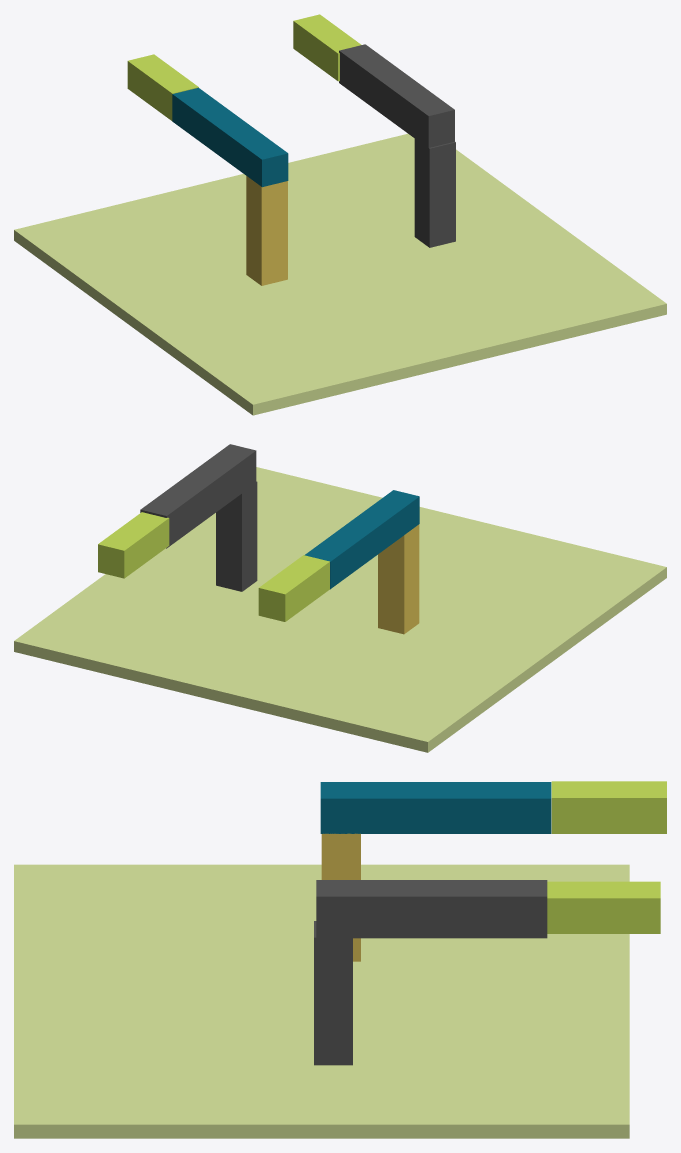
Rendered from cranes.dae.
3 views of the same model, one above another, from view 1: azimuth 30°, elevation 25°; view 2: azimuth 150°, elevation 25°; view 3: azimuth 270°, elevation 25° (orthographic). The views are drawn at different scales.
Parts seen in each view (by area): view 1: Base, Boom2, Boom1, Crane2, Crane1, Hook1, Hook2; view 2: Base, Boom2, Boom1, Crane1, Crane2, Hook1, Hook2; view 3: Base, Boom2, Boom1, Hook1, Hook2, Crane2, Crane1.
Boxes of the visible parts, x1,y1,x2,y2 form: Base: [14, 133, 666, 415]; Boom2: [339, 44, 454, 147]; Boom1: [172, 87, 288, 187]; Crane2: [414, 138, 455, 247]; Crane1: [246, 176, 287, 285]; Hook1: [127, 54, 198, 120]; Hook2: [293, 14, 361, 81]; Base: [14, 467, 666, 752]; Boom2: [140, 444, 256, 548]; Boom1: [304, 490, 419, 589]; Crane1: [378, 524, 419, 634]; Crane2: [216, 481, 257, 591]; Hook1: [258, 555, 329, 621]; Hook2: [98, 512, 169, 578]; Base: [14, 864, 629, 1138]; Boom2: [316, 880, 547, 938]; Boom1: [320, 782, 551, 833]; Hook1: [551, 781, 666, 833]; Hook2: [547, 881, 660, 933]; Crane2: [314, 921, 352, 1065]; Crane1: [321, 833, 360, 961].
Bounding box in the file's own units: 157 × 167 × 51.58.
